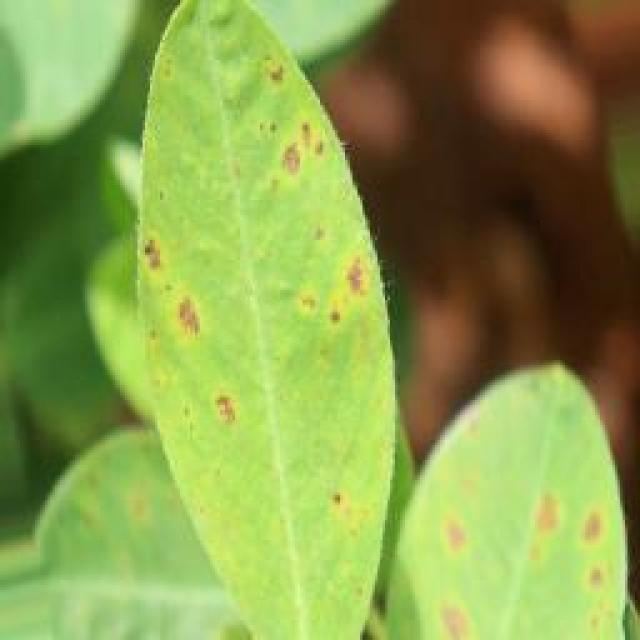Sigatoka: (358, 390, 624, 640), (218, 61, 368, 351), (128, 209, 242, 462)
